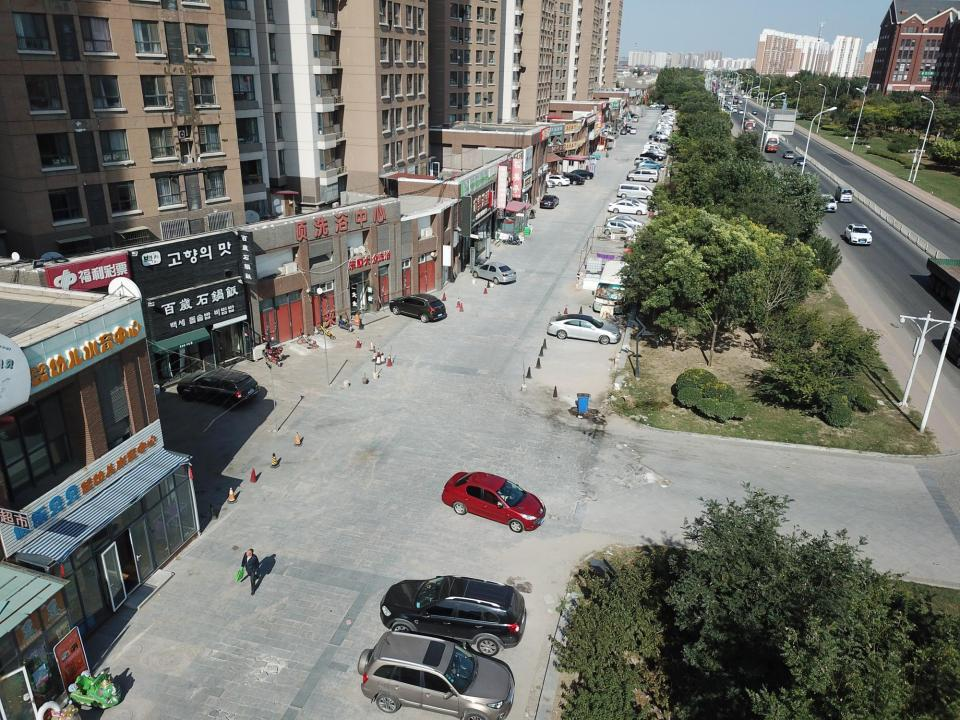car: (354, 629, 517, 720), (378, 574, 528, 657), (441, 469, 547, 533), (546, 311, 622, 345), (388, 292, 448, 322), (470, 261, 517, 285), (604, 213, 646, 230), (606, 199, 648, 216), (843, 222, 872, 246), (614, 197, 659, 211), (603, 219, 638, 236), (815, 192, 838, 213), (564, 169, 594, 181), (539, 193, 560, 210), (558, 173, 585, 186), (635, 160, 664, 172), (546, 174, 570, 188), (629, 168, 659, 179), (531, 175, 555, 188), (761, 126, 779, 138), (794, 156, 808, 166), (782, 150, 795, 160), (740, 117, 751, 125), (748, 118, 756, 128), (622, 126, 635, 132), (620, 128, 627, 135)
truck: (760, 128, 779, 152), (742, 120, 753, 133)
van: (591, 261, 638, 315), (616, 184, 658, 200), (625, 169, 659, 183), (835, 184, 854, 203), (634, 157, 660, 165), (629, 127, 637, 135), (632, 115, 640, 122)
